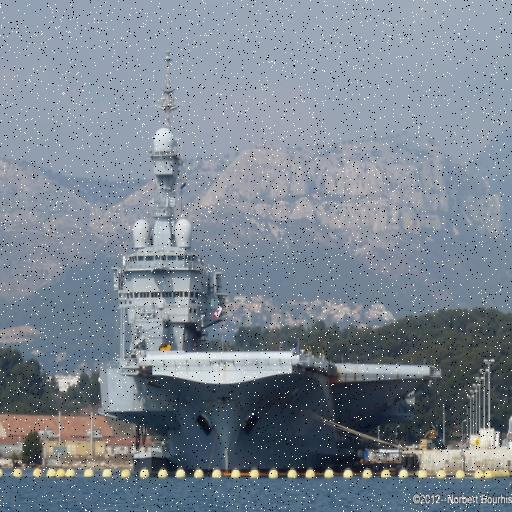Portanaves: (95, 1, 445, 475)
